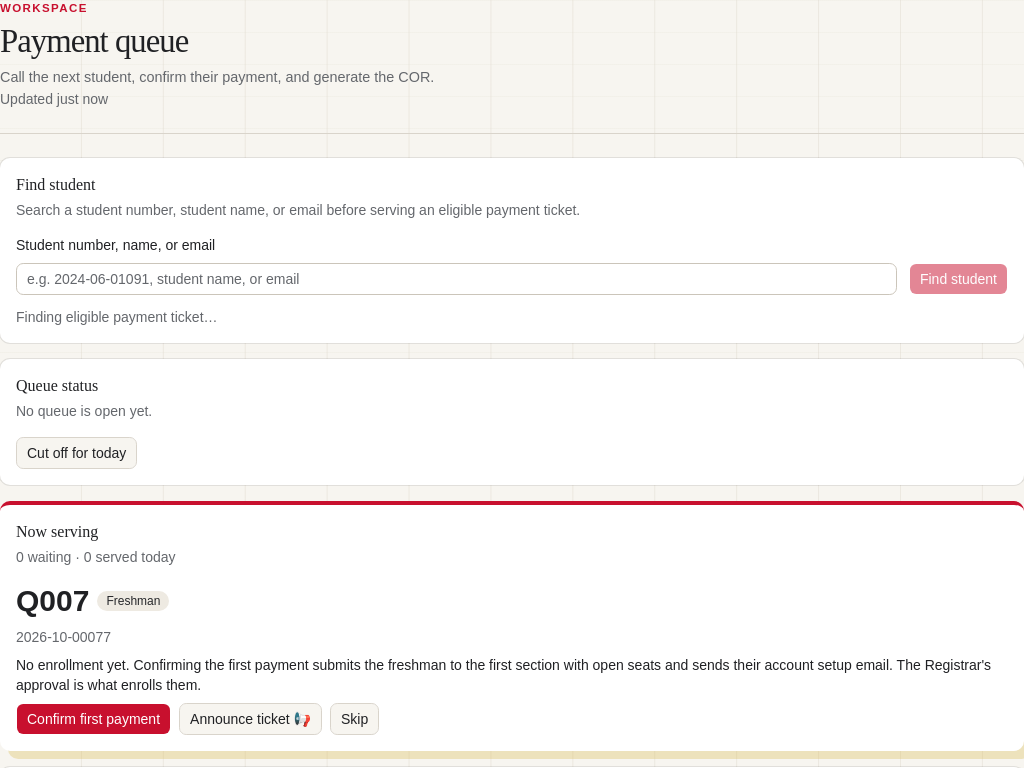
Test case: AccountingPaymentWorkspace › freshman tickets › shows the section the freshman will get and the estimated assessment before anything is recorded
Click the button "Confirm first payment" at (94, 719), box [16,703,171,735]
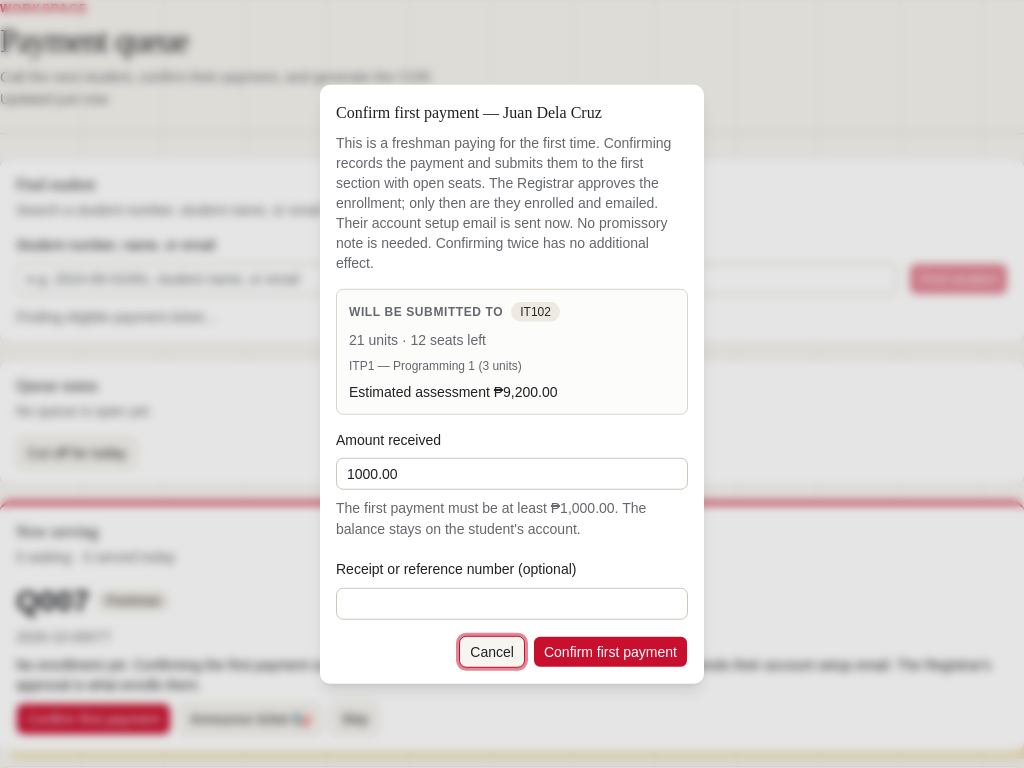
Now the icon "IT102" is shown, box [511,302,560,322]
Now the text "21 units · 12 seats left" is shown, box [349,330,486,350]
Now the list item "ITP1 — Programming 1 (3 units)" is shown, box [349,359,522,373]
